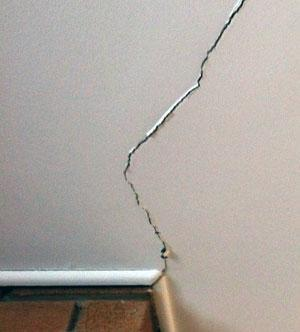crack: (123, 0, 246, 274)
